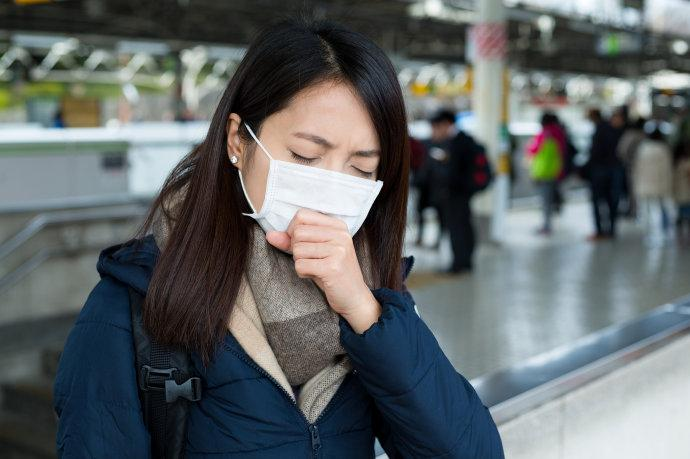mask: (250, 60, 384, 244)
